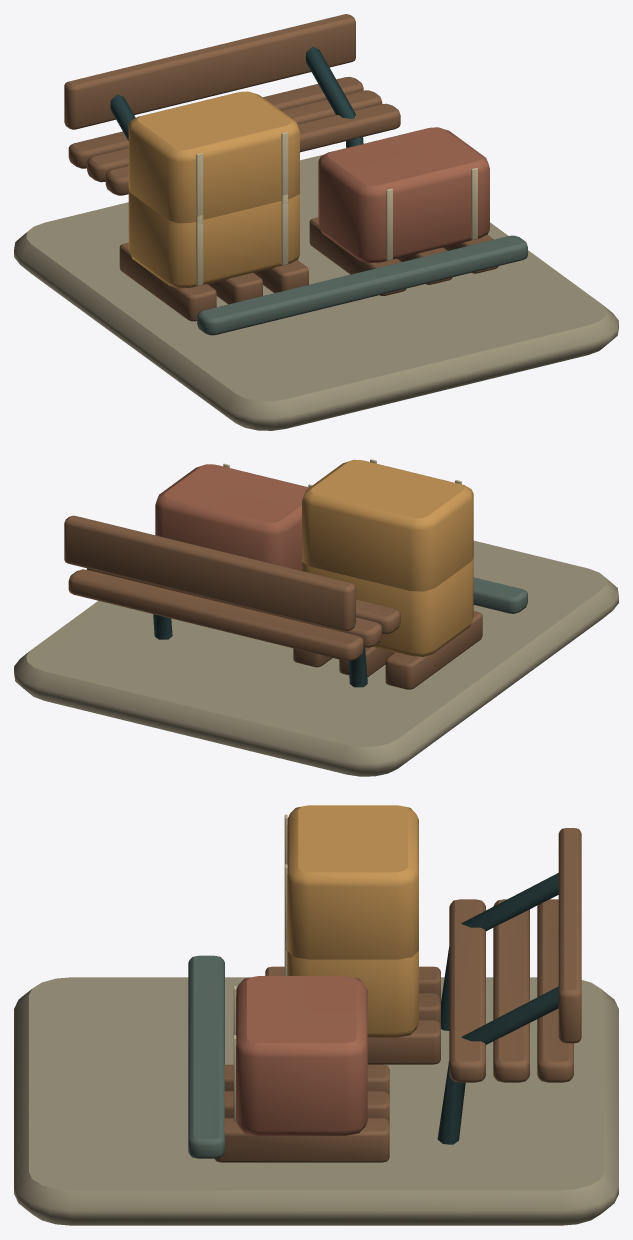
Rendered from truck_works_1.glb.
3 renders of one model, top to bottom at view 1: azimuth 30°, elevation 25°; view 2: azimuth 150°, elevation 25°; view 3: azimuth 270°, elevation 25°, orthographic. The views are drawn at different scales.
Visible parts, largest first — view 1: TruckWorks1; view 2: TruckWorks1; view 3: TruckWorks1.
Part boxes in pixels (box(x1,y1,x2,y2)): TruckWorks1: box(14, 14, 618, 430); TruckWorks1: box(14, 459, 618, 776); TruckWorks1: box(14, 805, 618, 1225).
Bounding box in the file's own units: 2.19 × 1.04 × 2.48.
